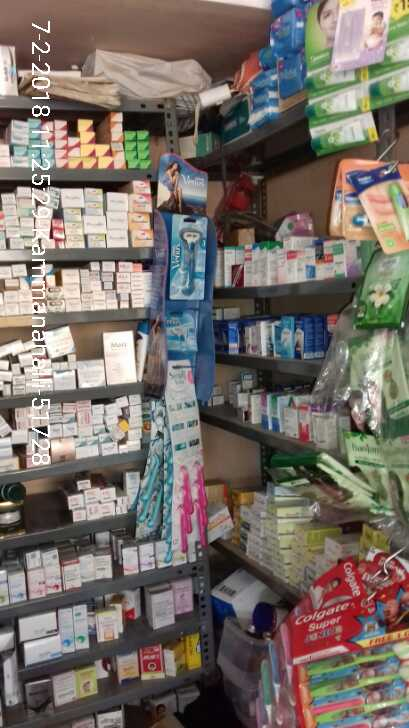venus: (165, 212, 212, 300), (164, 313, 202, 355)
